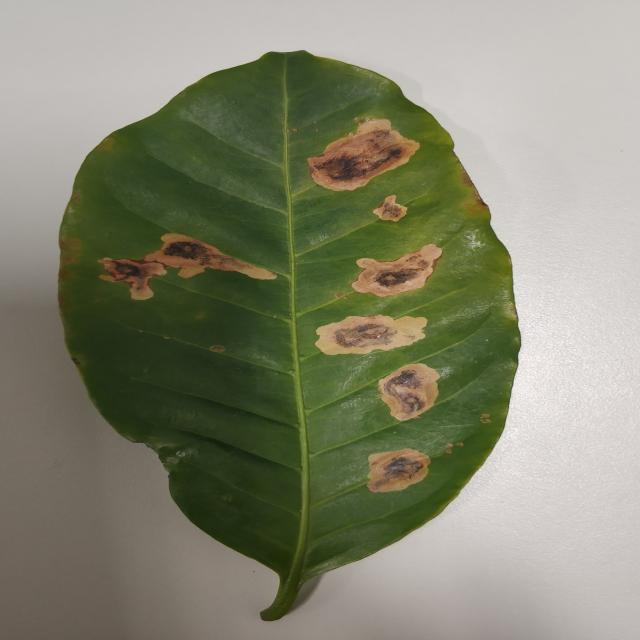Plaga-Minador: (56, 51, 522, 589)
